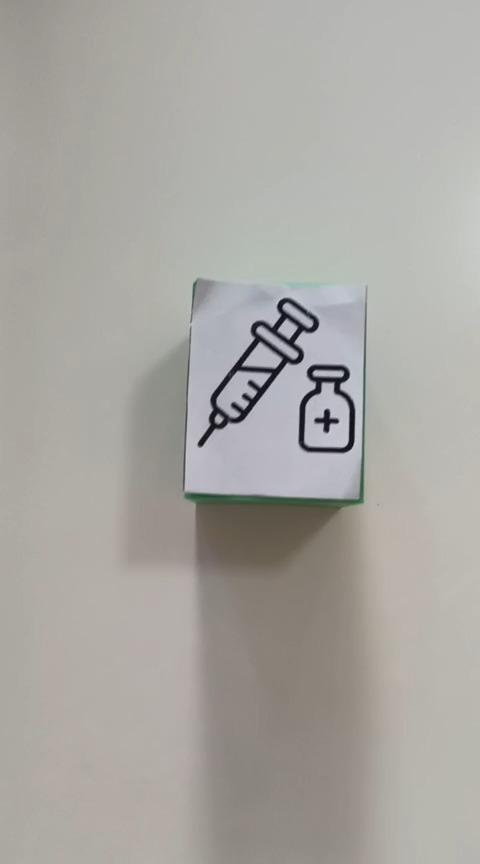antiseptic cream: (182, 276, 367, 507)
